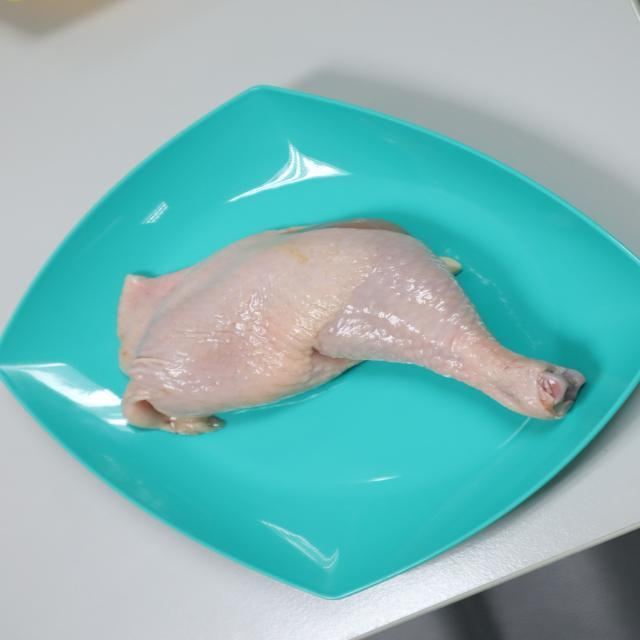quater: (118, 220, 582, 446)
